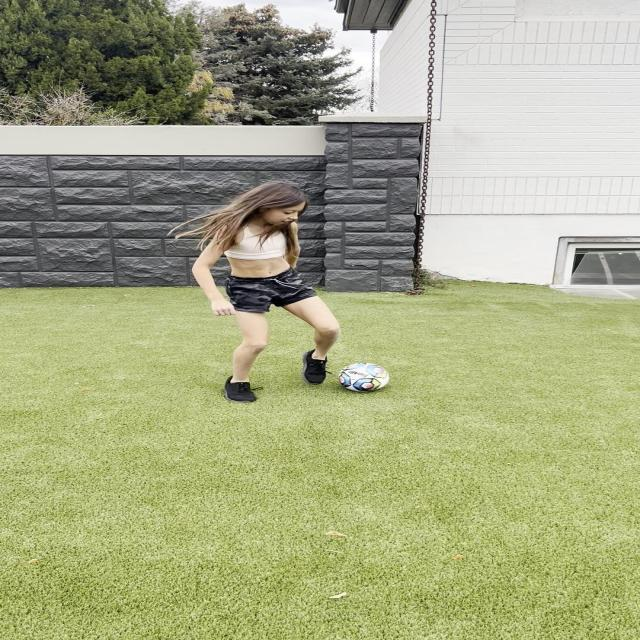Soccer Ball: (339, 362, 389, 392)
